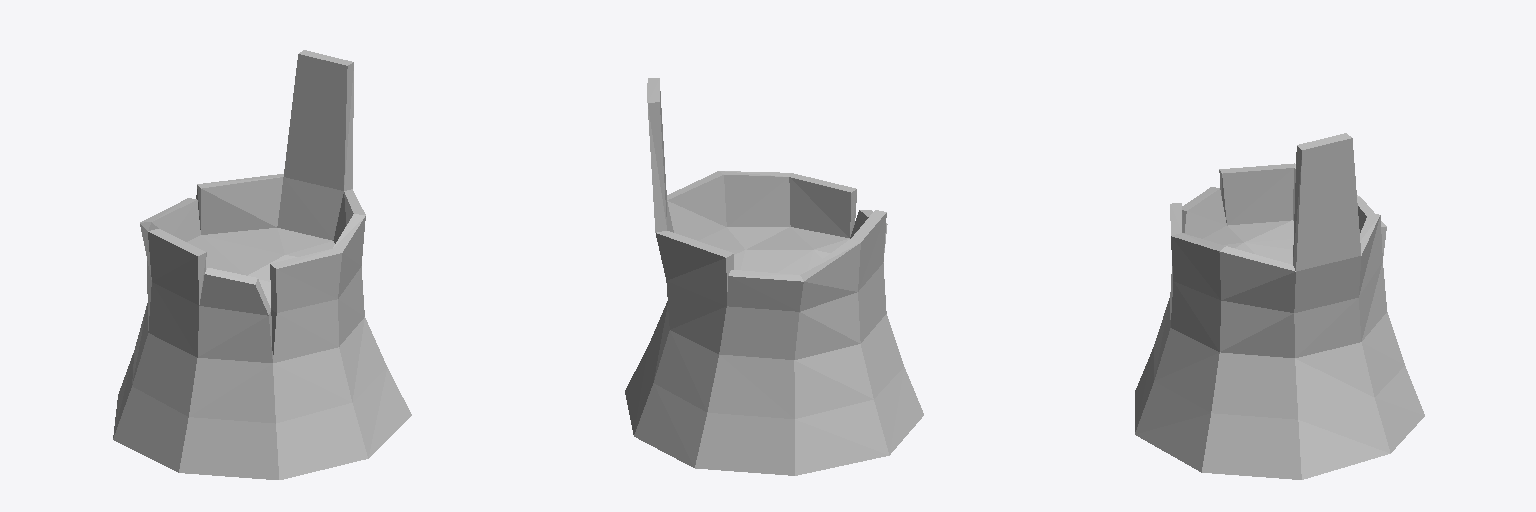
Rendered from TreeTrunk_4.obj.
The picture shows the model from 3 angles: view 1: azimuth 30°, elevation 25°; view 2: azimuth 150°, elevation 25°; view 3: azimuth 270°, elevation 25°; orthographic projection.
Visible parts, largest first — view 1: TreeTrunk_4; view 2: TreeTrunk_4; view 3: TreeTrunk_4.
Boxes of the visible parts, x1=… form: TreeTrunk_4: x1=113, y1=50, x2=411, y2=479; TreeTrunk_4: x1=625, y1=78, x2=923, y2=475; TreeTrunk_4: x1=1135, y1=133, x2=1424, y2=479.
Bounding box in the file's own units: 0.8572 × 0.988 × 0.8152.